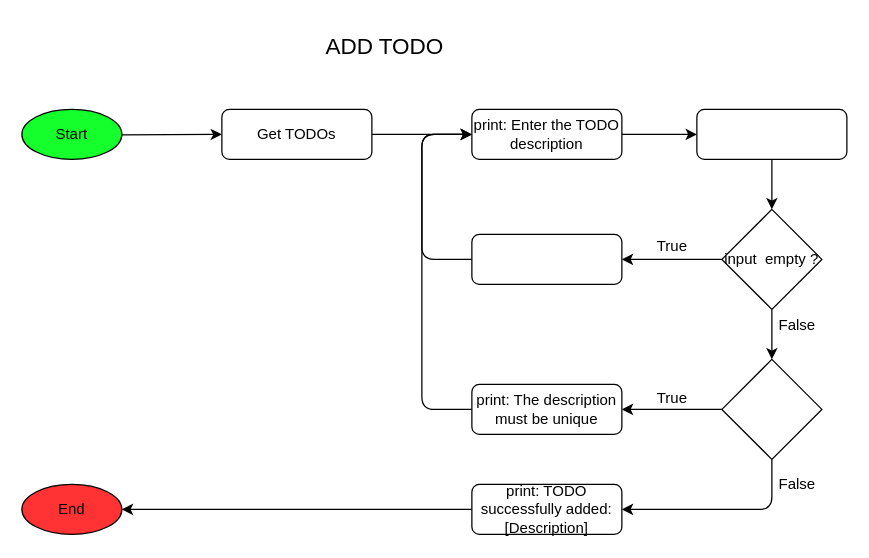
Image size: 869x558. Some labels were removed from this diagram. Here are the shapes that lost their labels. From the top down, the box of each, then its label:
(696, 108, 847, 159): Get input
(471, 233, 622, 284): print: The description cannot be empty
(721, 358, 822, 459): input in TODOs ?
